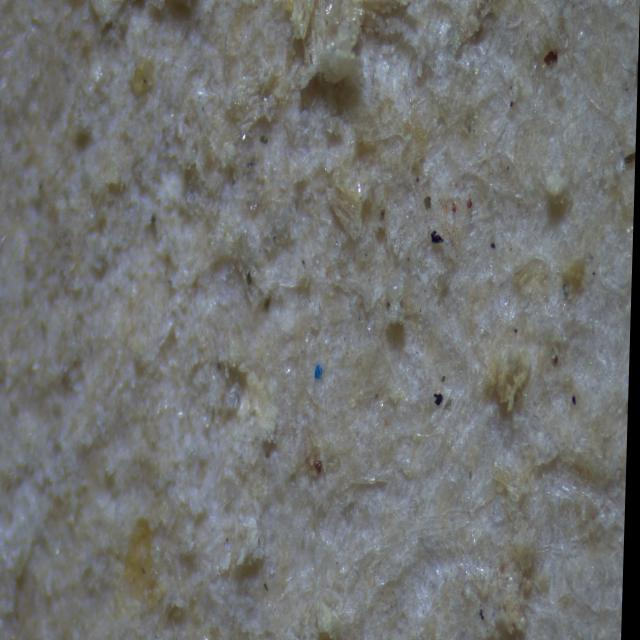microplastic: (315, 363, 327, 384)
